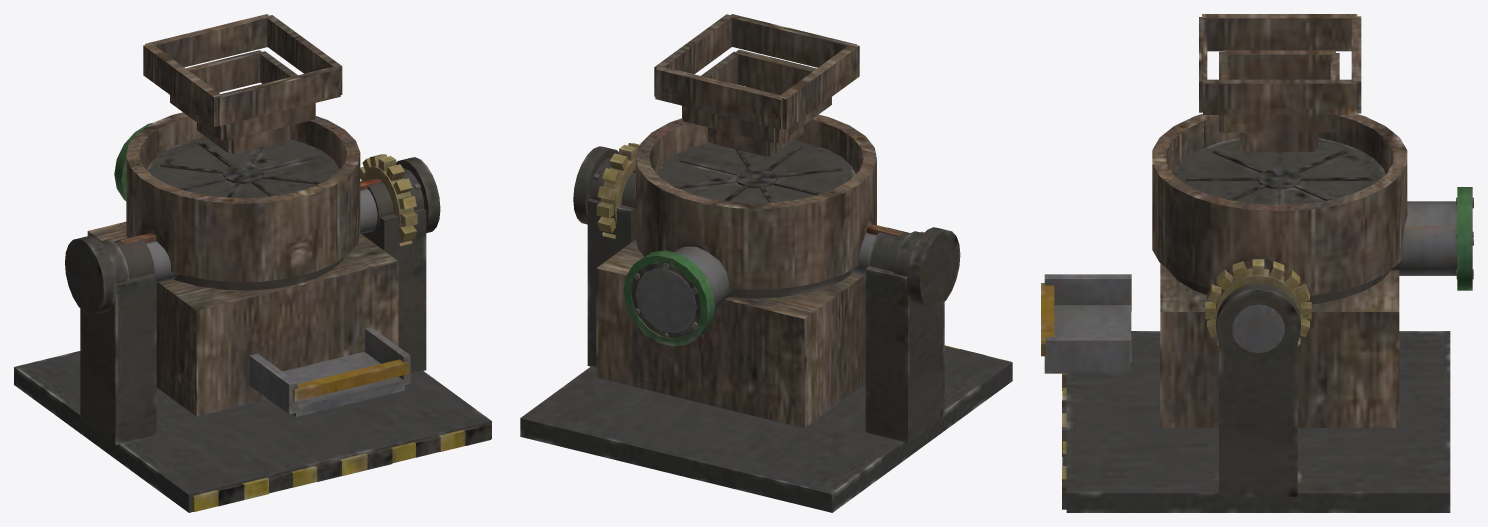
Rendered from feMill.glb.
3 renders of one model, left to right at view 1: azimuth 30°, elevation 25°; view 2: azimuth 150°, elevation 25°; view 3: azimuth 270°, elevation 25°, orthographic. The views are drawn at different scales.
Parts seen in each view (by area): view 1: feMill_Base, FeSpin_DriveShaft, FeSpin_x0.5_Runner; view 2: feMill_Base, FeSpin_x0.5_Runner, FeSpin_DriveShaft; view 3: feMill_Base, FeSpin_x0.5_Runner, FeSpin_DriveShaft.
Part boxes in pixels (x1,y1,x2,y2): feMill_Base: (14, 14, 491, 512); FeSpin_DriveShaft: (65, 154, 440, 315); FeSpin_x0.5_Runner: (147, 137, 339, 197); feMill_Base: (520, 14, 1012, 512); FeSpin_x0.5_Runner: (657, 140, 855, 202); FeSpin_DriveShaft: (573, 143, 960, 309); feMill_Base: (1041, 14, 1473, 512); FeSpin_x0.5_Runner: (1174, 138, 1385, 205); FeSpin_DriveShaft: (1205, 259, 1311, 367).
Bounding box in the file's own units: 1 × 0.993 × 1.02.
1 material, 1 textured.
